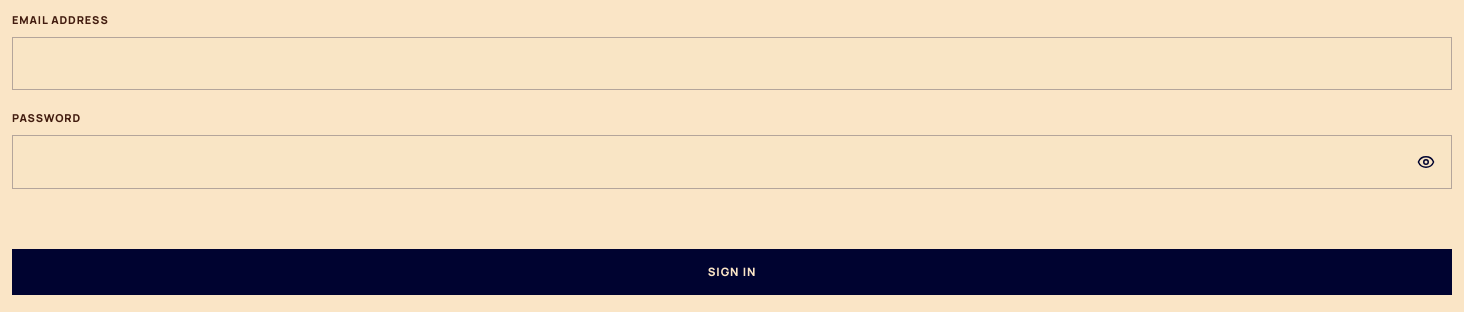
Test: admin login form › shows a generic error when authentication fails
Type "admin@example.com" into the field labelled "Email address".
click(732, 64); type("admin@example.com")  # box [12, 37, 1452, 90]
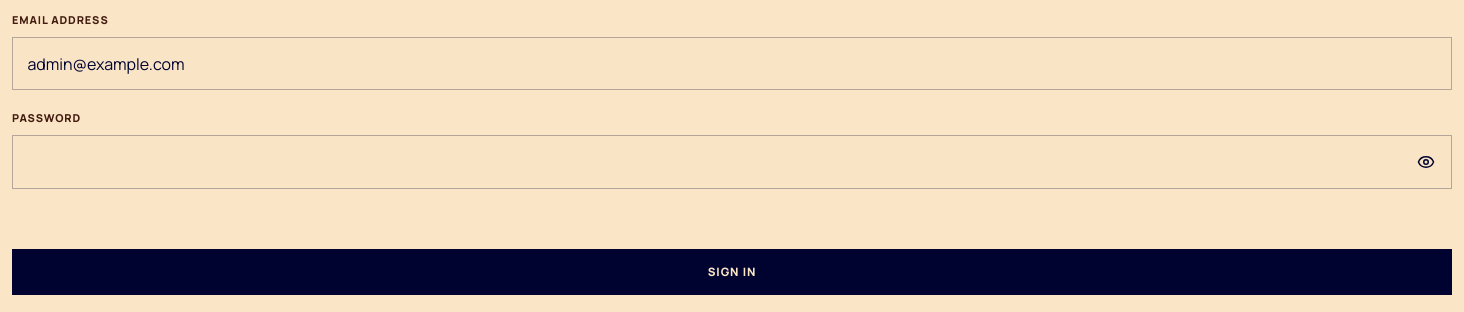
Type "wrong" into the password field labelled "Password".
click(732, 162); type("wrong")  # box [12, 135, 1452, 189]
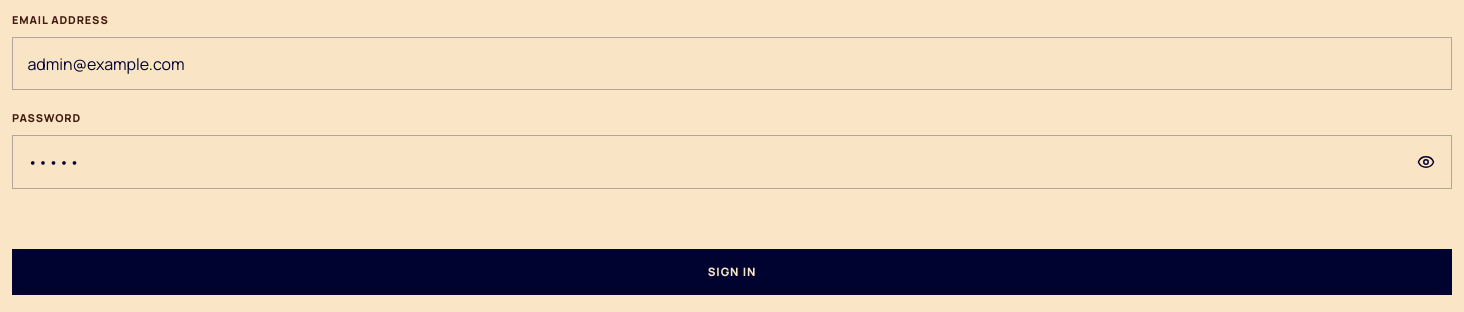
Submit the form from the button "Sign in", box [12, 249, 1452, 295]
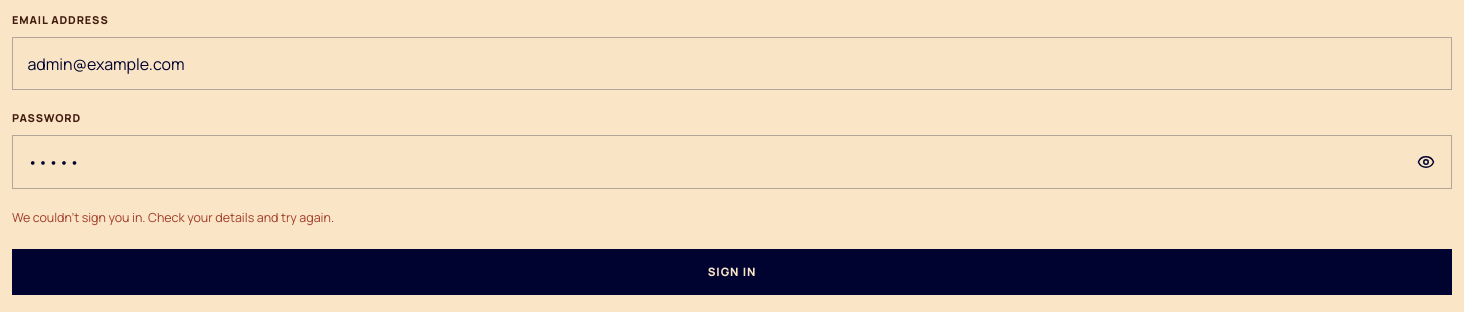
Now the text "We couldn't sign you in. Check your details and try again." is shown, box [12, 209, 334, 226]
